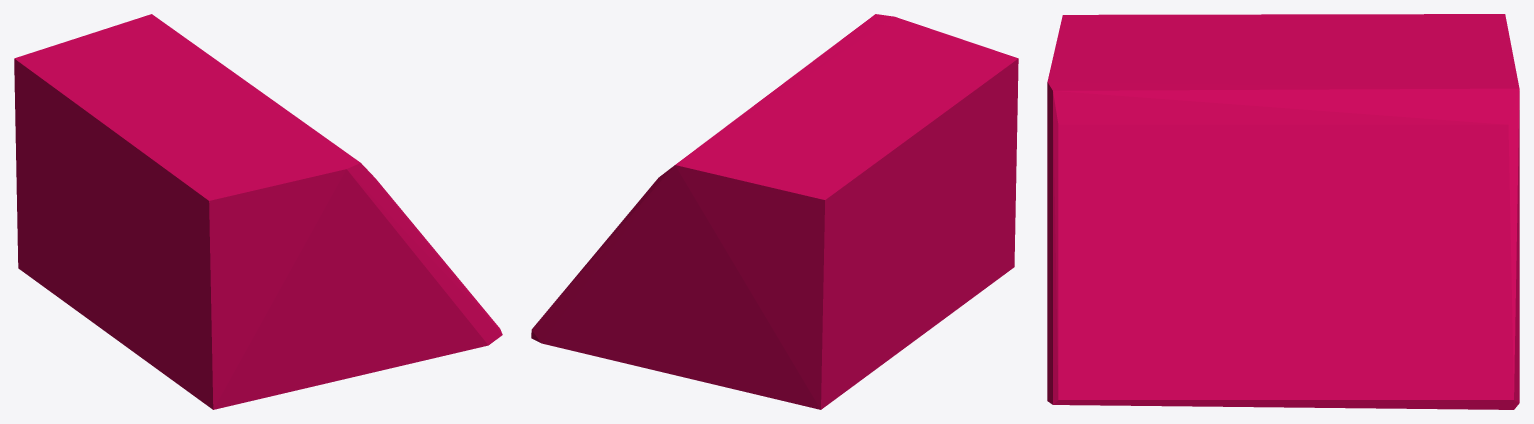
File: pent_convex_piece_004.obj
3 views of the same model, side by side, from view 1: azimuth 30°, elevation 25°; view 2: azimuth 150°, elevation 25°; view 3: azimuth 270°, elevation 25° (orthographic). The views are drawn at different scales.
Size of the model in its own units: 0.0446 by 0.0317 by 0.0552.
